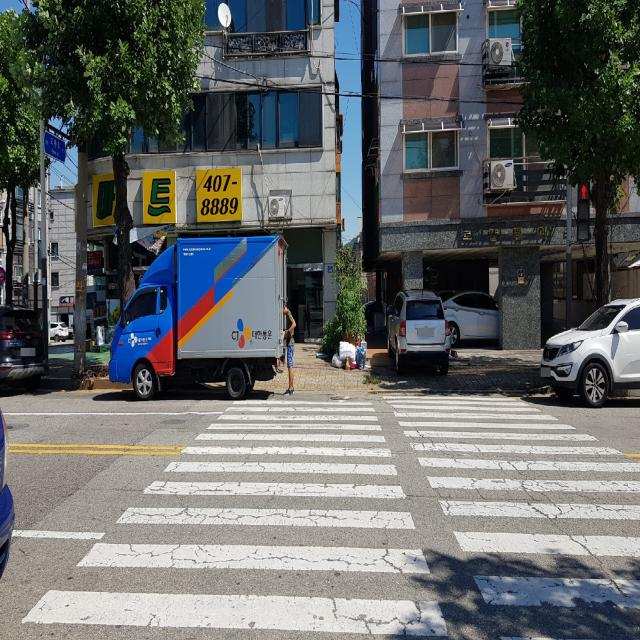횡단보도: (20, 392, 640, 640)
